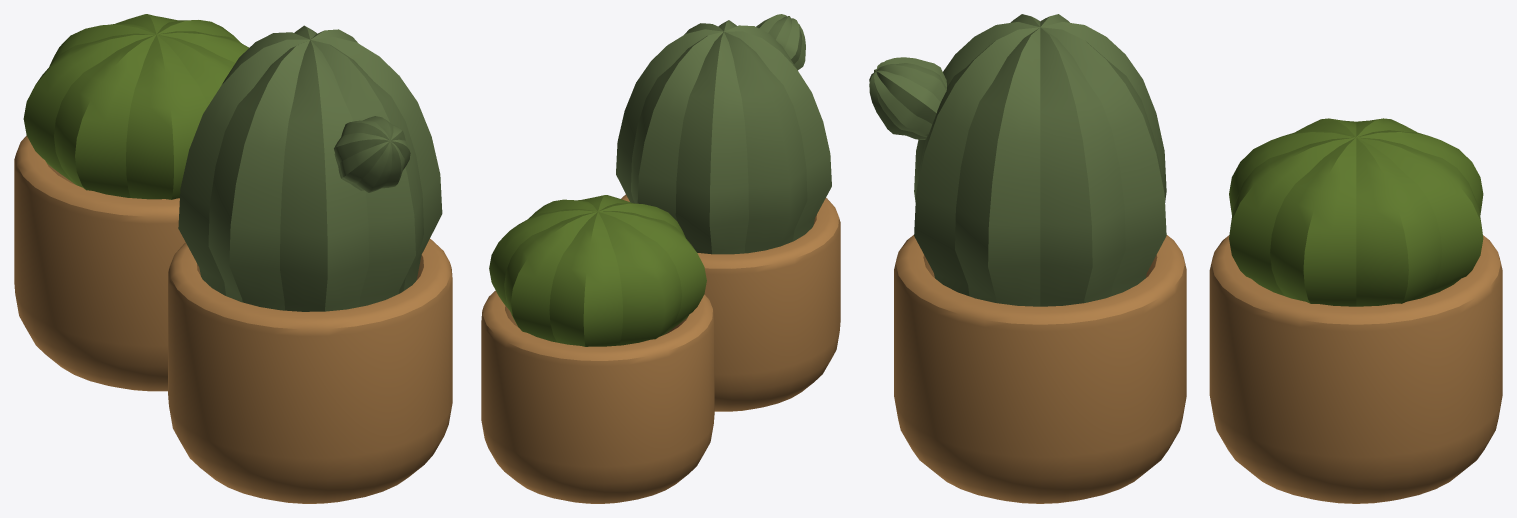
The model's file is cacti.fbx.
3 views of the same model, side by side, from view 1: azimuth 30°, elevation 25°; view 2: azimuth 150°, elevation 25°; view 3: azimuth 270°, elevation 25° (orthographic). The views are drawn at different scales.
Visible parts, largest first — view 1: Kaktus1, Ruukku1, Ruukku2, Kaktus2; view 2: Kaktus1, Ruukku2, Kaktus2, Ruukku1; view 3: Kaktus1, Ruukku1, Ruukku2, Kaktus2.
Part boxes in pixels (x1=…): Kaktus1: x1=178, y1=25, x2=442, y2=311; Ruukku1: x1=168, y1=239, x2=452, y2=503; Ruukku2: x1=14, y1=135, x2=185, y2=391; Kaktus2: x1=23, y1=14, x2=248, y2=199; Kaktus1: x1=616, y1=14, x2=831, y2=254; Ruukku2: x1=481, y1=290, x2=714, y2=503; Kaktus2: x1=489, y1=195, x2=706, y2=346; Ruukku1: x1=621, y1=194, x2=840, y2=411; Kaktus1: x1=869, y1=14, x2=1166, y2=306; Ruukku1: x1=894, y1=235, x2=1186, y2=503; Ruukku2: x1=1209, y1=235, x2=1502, y2=503; Kaktus2: x1=1229, y1=118, x2=1483, y2=306.
Bounding box in the file's own units: 0.1 × 0.1673 × 0.2162.
